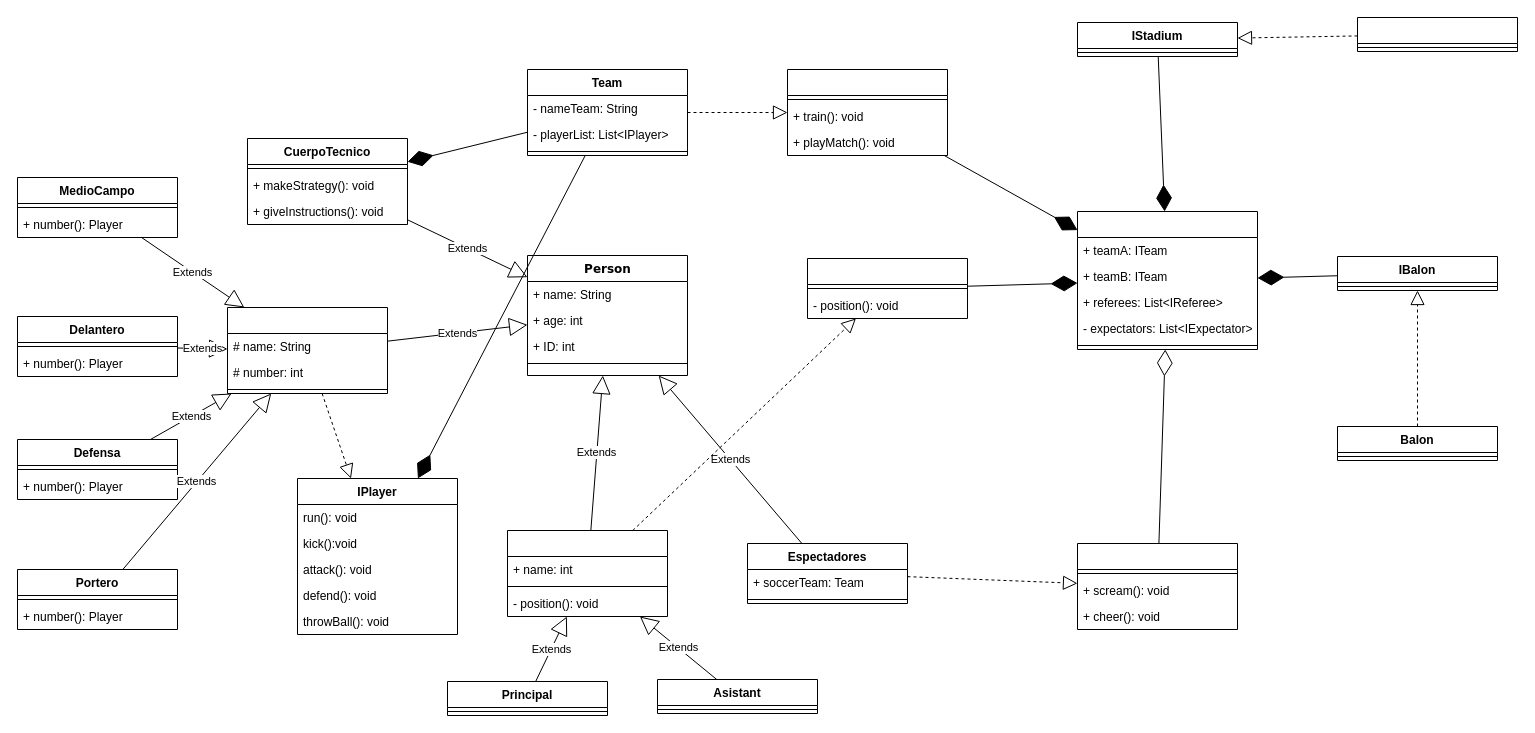
Image size: 1535x733. Some labels were removed from this diagram. The box of each missing label's shape, as (x1, y1, x2, y2) in pixels:
Arbitro: (506, 530, 668, 616)
IArbitro: (806, 258, 968, 318)
IExpectator: (1076, 542, 1238, 630)
ITeam: (786, 68, 948, 156)
Player: (226, 306, 388, 394)
SoccerMatch: (1076, 210, 1258, 350)
Stadium: (1356, 16, 1518, 52)
